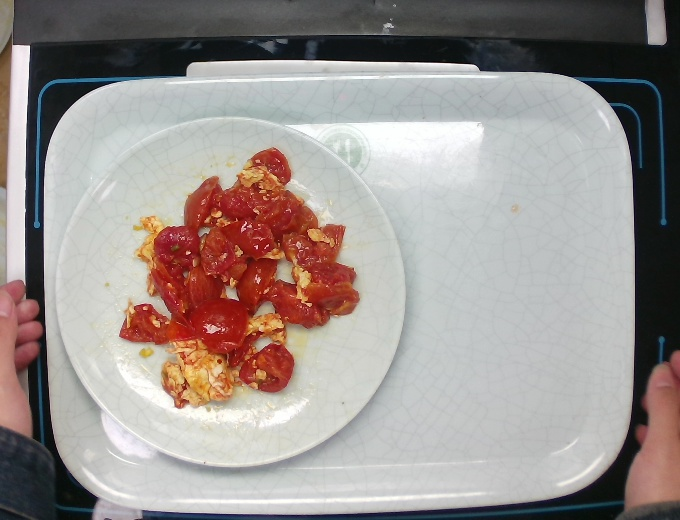JYsf-Da_Yuan_Pan: (48, 106, 416, 473)
